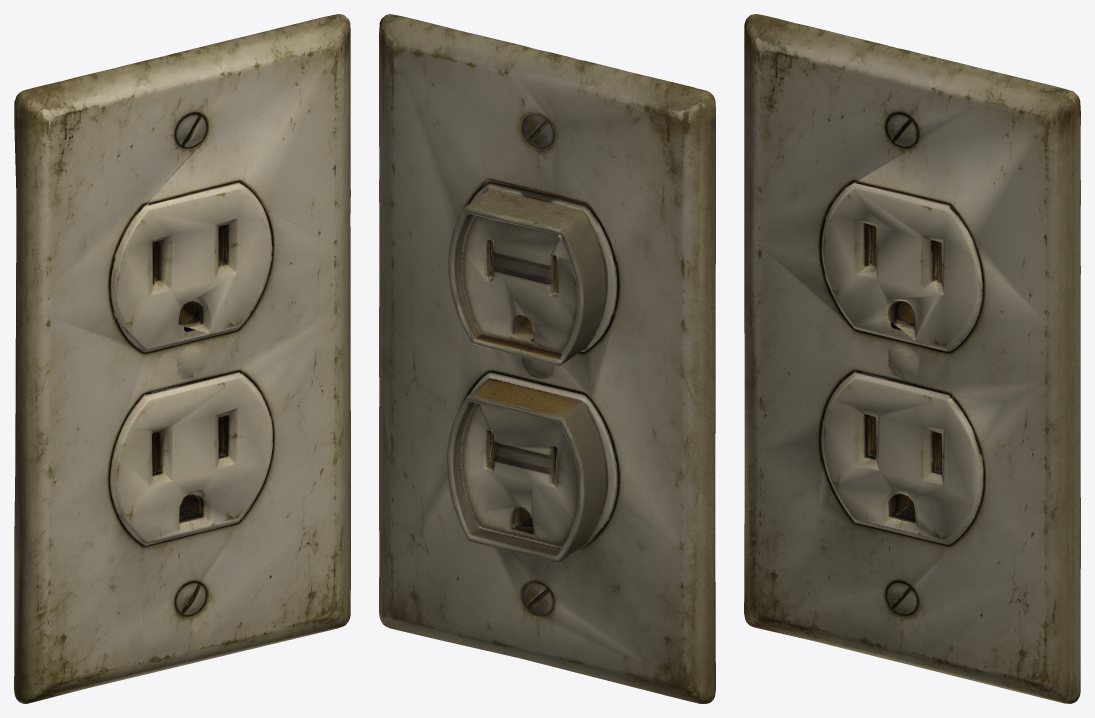
Rendered from Meshy_AI_Weathered_duplex_outl_0613220150_texture.fbx.
3 views of the same model, side by side, from view 1: azimuth 30°, elevation 25°; view 2: azimuth 150°, elevation 25°; view 3: azimuth 330°, elevation 25° (orthographic).
Parts seen in each view (by area): view 1: Mesh1.0; view 2: Mesh1.0; view 3: Mesh1.0.
Boxes of the visible parts, <box> form: Mesh1.0: <box>14,14,350,703</box>; Mesh1.0: <box>379,14,715,703</box>; Mesh1.0: <box>744,14,1080,703</box>.
Bounding box in the file's own units: 110 × 192 × 26.94.
Materials: 1 (1 with a texture image).
